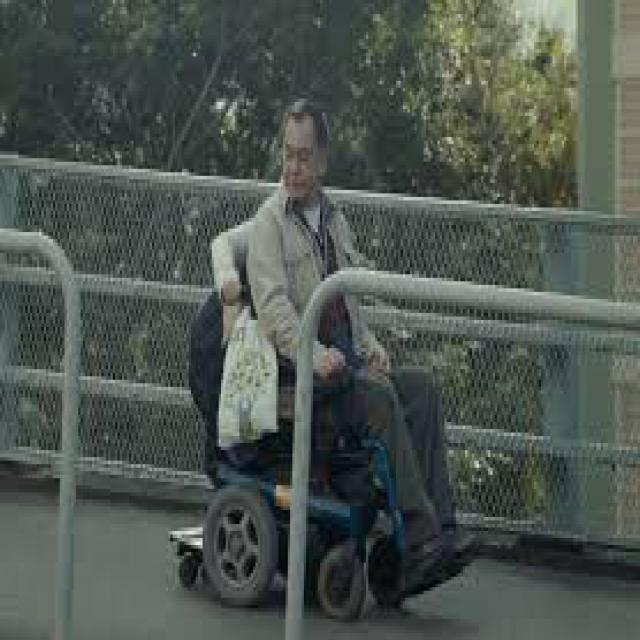wheelchairs: (182, 264, 476, 626)
